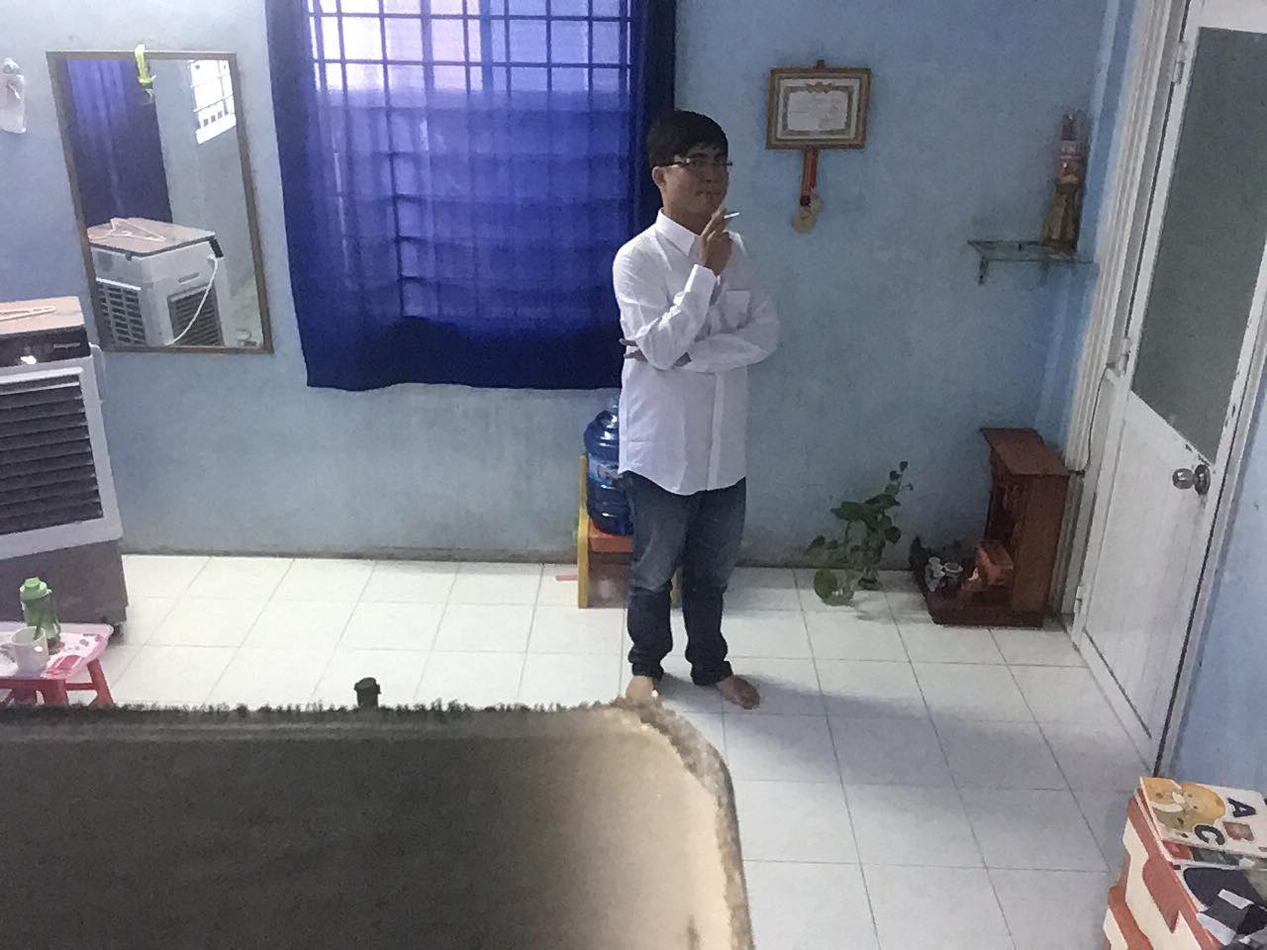cigarette: (716, 202, 748, 228)
person: (592, 93, 782, 714)
